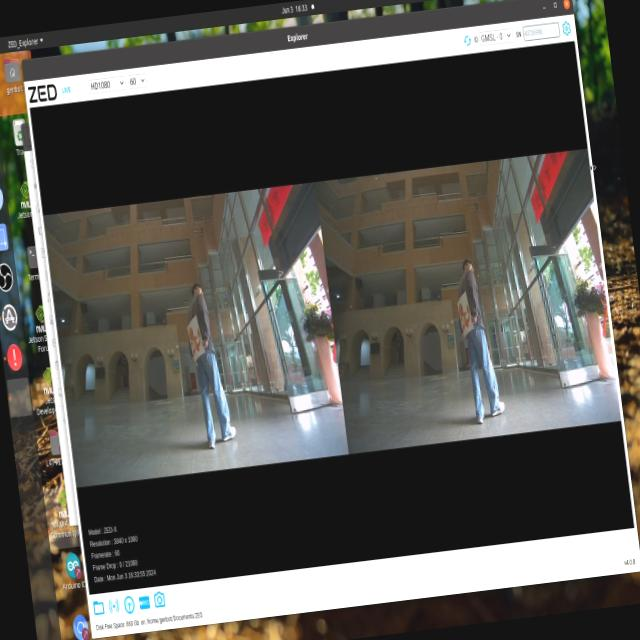red: (182, 318, 203, 364), (460, 294, 474, 336)
